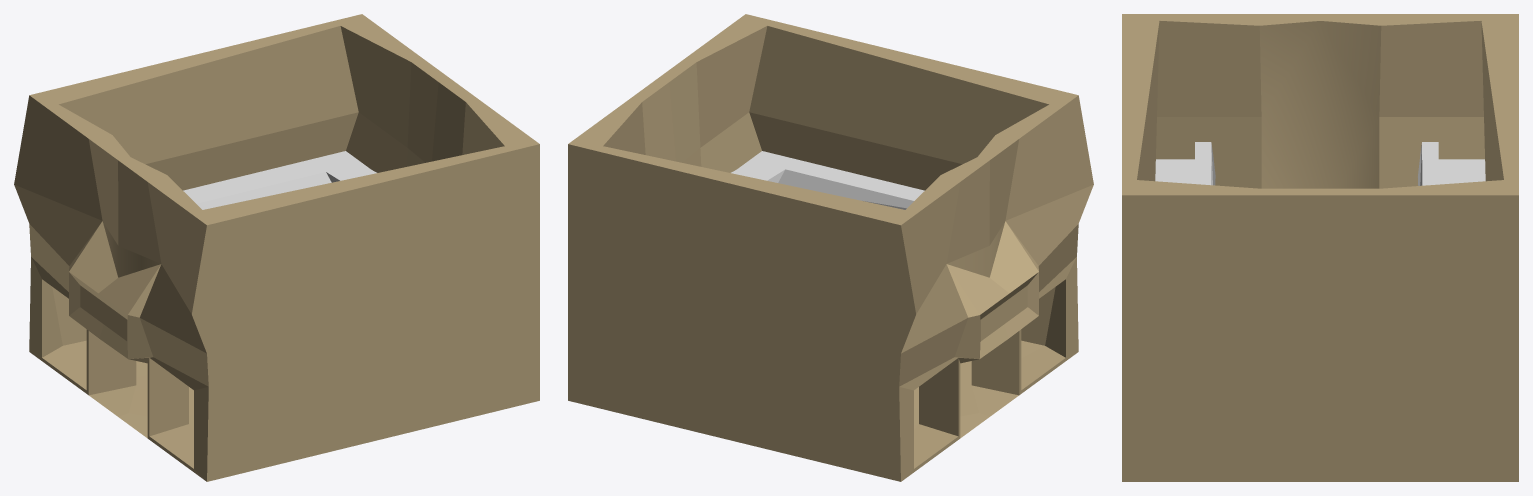
The model's file is Jewlery_Store_V2_PROTOTYPE.fbx.
3 renders of one model, left to right at view 1: azimuth 30°, elevation 25°; view 2: azimuth 150°, elevation 25°; view 3: azimuth 270°, elevation 25°, orthographic. The views are drawn at different scales.
Parts seen in each view (by area): view 1: Box004, Box002; view 2: Box004, Box002; view 3: Box004, Box002.
Boxes of the visible parts, x1,y1,x2,y2 form: Box004: (14,14,539,481); Box002: (183,151,376,209); Box004: (568,14,1093,481); Box002: (731,151,924,209); Box004: (1122,14,1518,481); Box002: (1155,142,1485,185).
Size of the model in its own units: 705 by 490 by 615.
